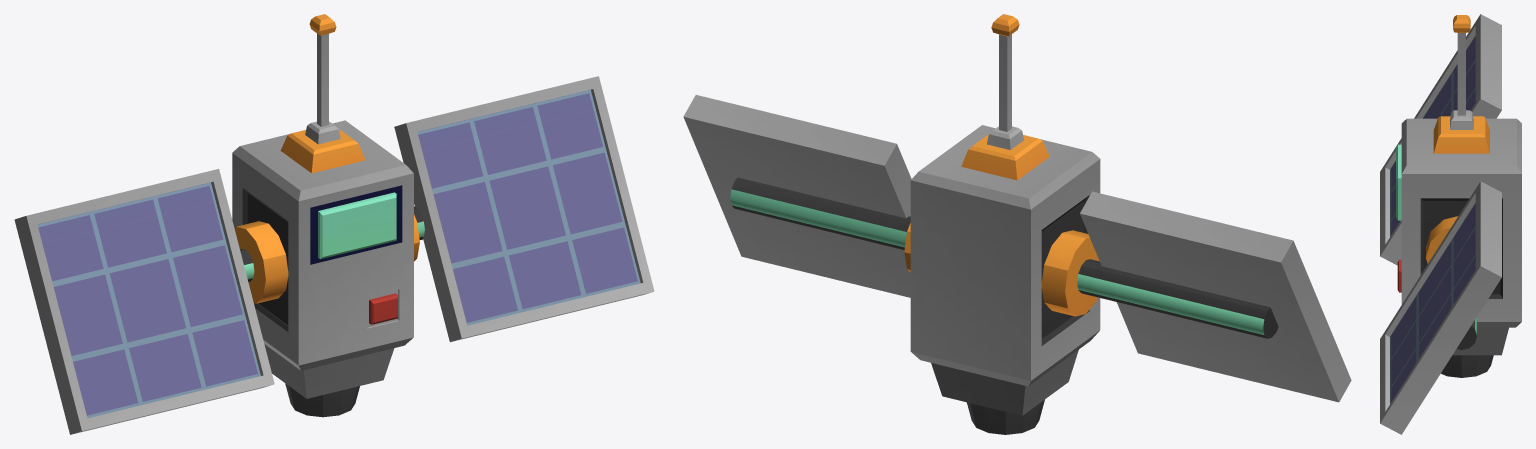
File: Satellite.obj
3 views of the same model, side by side, from view 1: azimuth 30°, elevation 25°; view 2: azimuth 150°, elevation 25°; view 3: azimuth 270°, elevation 25° (orthographic). The views are drawn at different scales.
Parts seen in each view (by area): view 1: Satellite; view 2: Satellite; view 3: Satellite.
Part boxes in pixels (bbox=[...]): Satellite: bbox=[14, 14, 654, 434]; Satellite: bbox=[683, 14, 1351, 434]; Satellite: bbox=[1380, 14, 1521, 434].
Bounding box in the file's own units: 7.23 × 4.66 × 1.72.
